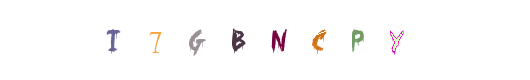7: (197, 0, 277, 80)
B: (225, 0, 305, 80)
C: (238, 0, 318, 80)
G: (206, 0, 286, 80)
I: (175, 0, 255, 80)
N: (232, 0, 312, 80)
P: (249, 0, 329, 80)
Y: (355, 0, 435, 80)
